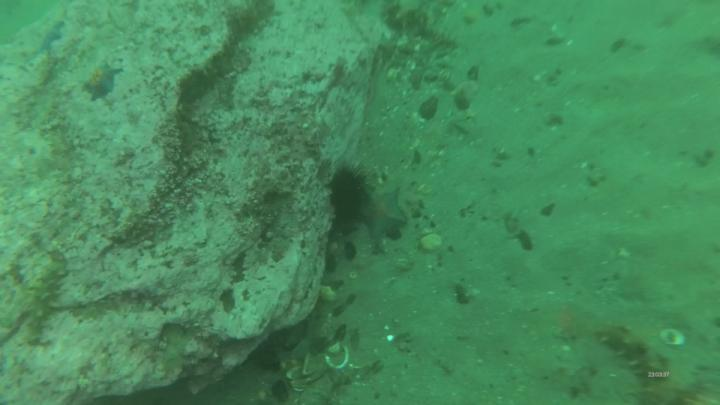echinus: (334, 168, 364, 219)
holothurian: (599, 323, 668, 382), (26, 259, 64, 355)
starfish: (367, 190, 408, 237), (85, 67, 117, 101)
